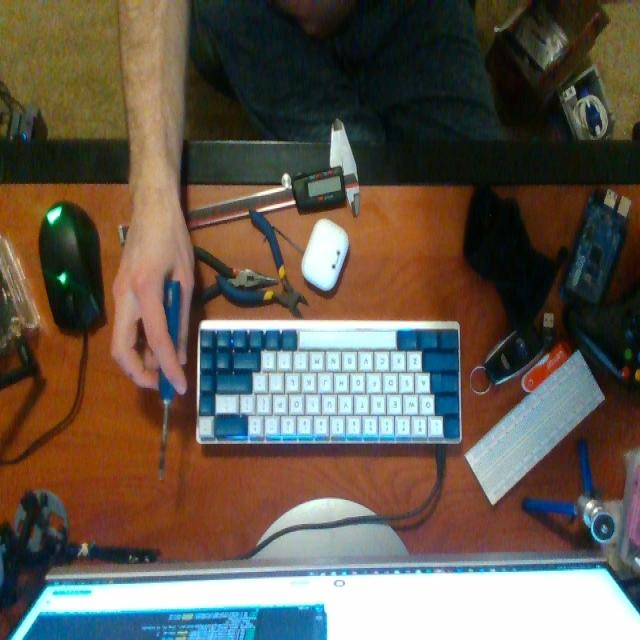keyboard: (197, 323, 461, 441)
